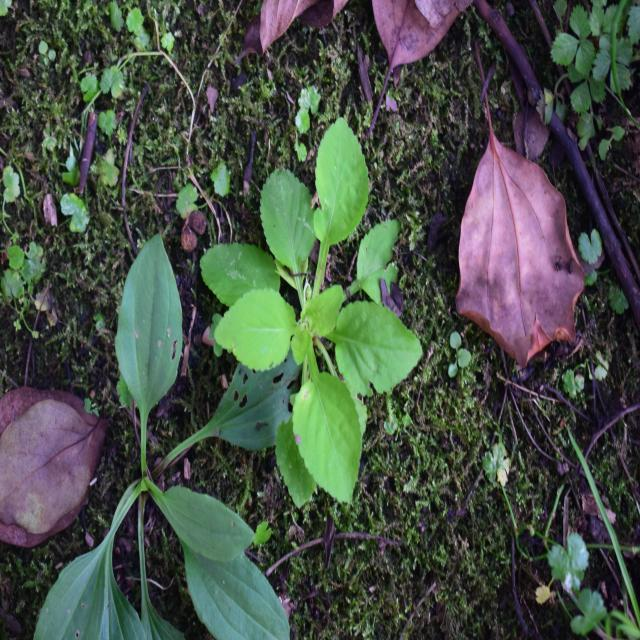Viola: (212, 136, 422, 485)
